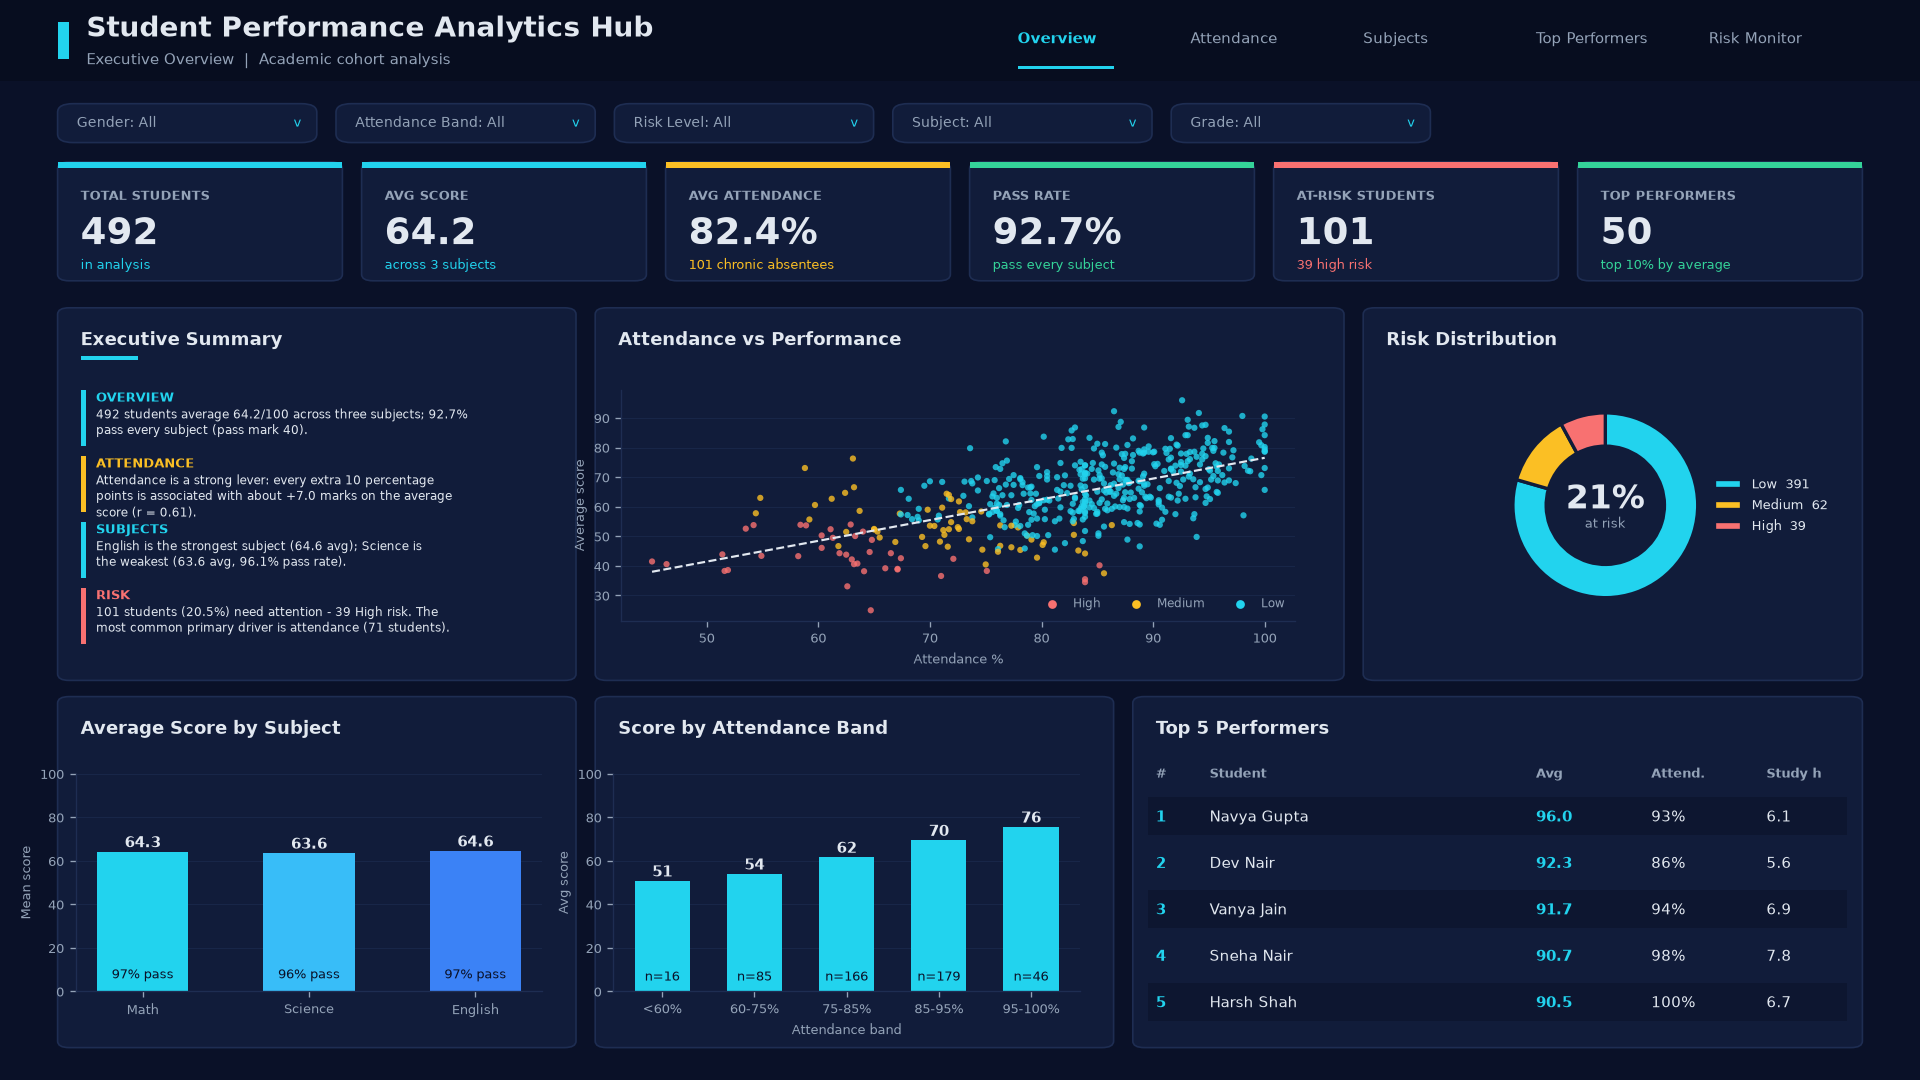

What the dashboard file says about the page in this screenshot:
{"tool":"powerbi","page":{"name":" Overview","canvas":[1920,1080],"ordinal":0},"visuals":[{"type":"cardVisual","fields":{"Data":["students.Total Students"]},"box":[10.8,48.8,279.3,230.5],"z":0},{"type":"cardVisual","fields":{"Data":["students.Avg Score"]},"box":[290.2,48.8,279.3,230.5],"z":1000},{"type":"cardVisual","fields":{"Data":["students.Avg Attendance %"]},"box":[569.5,48.8,279.3,230.5],"z":2000},{"type":"cardVisual","fields":{"Data":["students.At-Risk Students"]},"box":[848.8,48.8,279.3,230.5],"z":3000},{"type":"donutChart","fields":{"Category":["students.Risk_Level"],"Y":["students.Total Students"]},"box":[11.1,290.5,417.8,309.9],"z":4000},{"type":"clusteredColumnChart","fields":{"Category":["students.Attendance_Band"],"Y":["students.Avg Score"]},"box":[428.8,279.4,462,320.9],"z":5000},{"type":"scatterChart","fields":{"Series":["students.Risk_Level"],"X":["students.Attendance_Percentage"],"Y":["students.Avg_Score"]},"box":[890.8,290.5,484.1,309.9],"z":6000},{"type":"slicer","fields":{"Values":["students.Gender"]},"box":[0,600.3,368,213],"z":7000},{"type":"slicer","fields":{"Values":["students.Risk_Level"]},"box":[368,600.3,365.2,213],"z":8000},{"type":"slicer","fields":{"Values":["students.Attendance_Band"]},"box":[733.1,600.3,395.6,213],"z":9000},{"type":"pageNavigator","box":[0,0,1000,50],"z":9001}]}

Visuals, with their boxes in screenshot pixels (x1, y1, x2, y2), scaled from the page's 1920x1080 canvas onto the 1920x1080 screenshot:
cardVisual - students.Total Students: bbox=(11, 49, 290, 279)
cardVisual - students.Avg Score: bbox=(290, 49, 570, 279)
cardVisual - students.Avg Attendance %: bbox=(570, 49, 849, 279)
cardVisual - students.At-Risk Students: bbox=(849, 49, 1128, 279)
donutChart - students.Risk_Level x students.Total Students: bbox=(11, 290, 429, 600)
clusteredColumnChart - students.Attendance_Band x students.Avg Score: bbox=(429, 279, 891, 600)
scatterChart - students.Risk_Level x students.Attendance_Percentage: bbox=(891, 290, 1375, 600)
slicer - students.Gender: bbox=(0, 600, 368, 813)
slicer - students.Risk_Level: bbox=(368, 600, 733, 813)
slicer - students.Attendance_Band: bbox=(733, 600, 1129, 813)
pageNavigator: bbox=(0, 0, 1000, 50)
